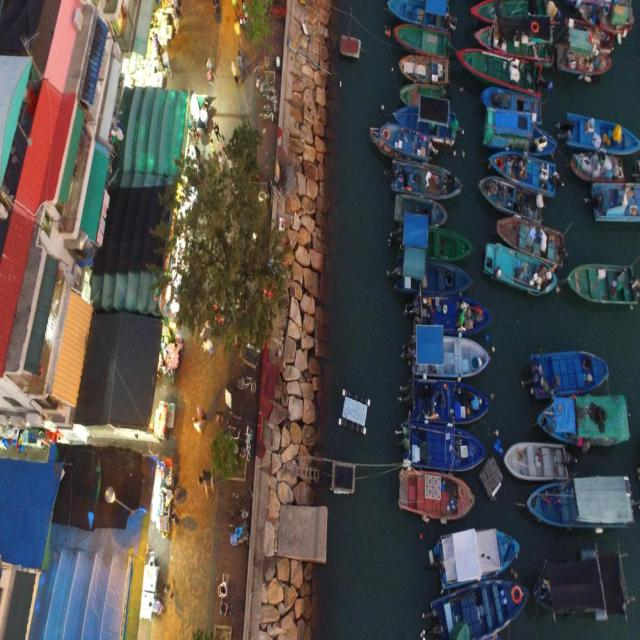tree: (145, 114, 291, 361)
